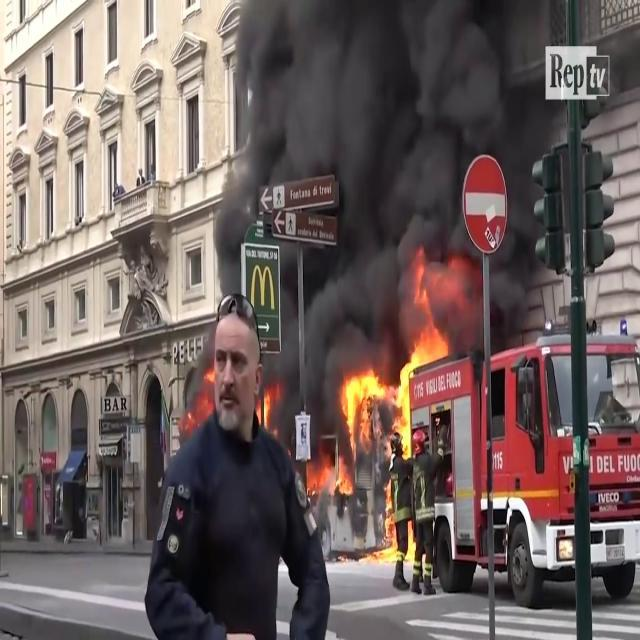Fire: (338, 362, 392, 448), (395, 356, 415, 456), (256, 378, 280, 434)
Smoke: (213, 0, 539, 291)
